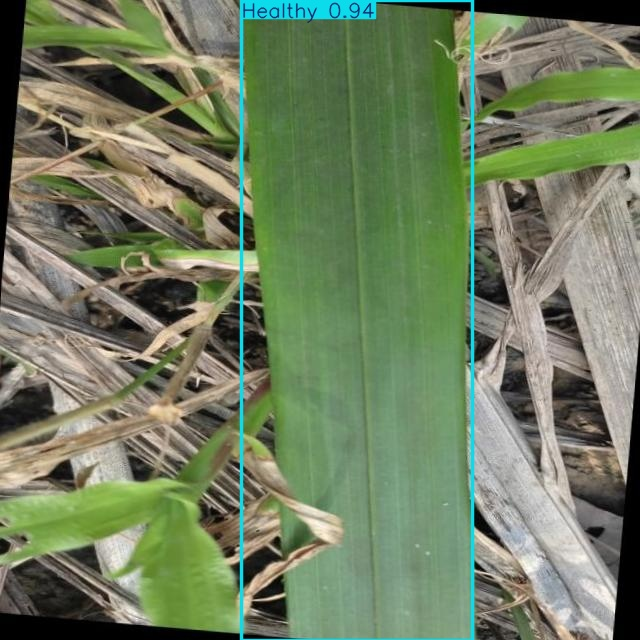Healthy: (242, 0, 472, 640)
